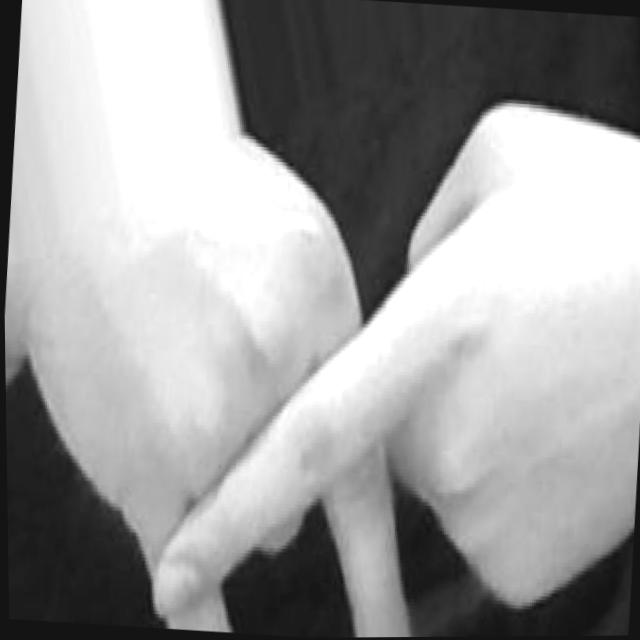H: (9, 58, 640, 640)
